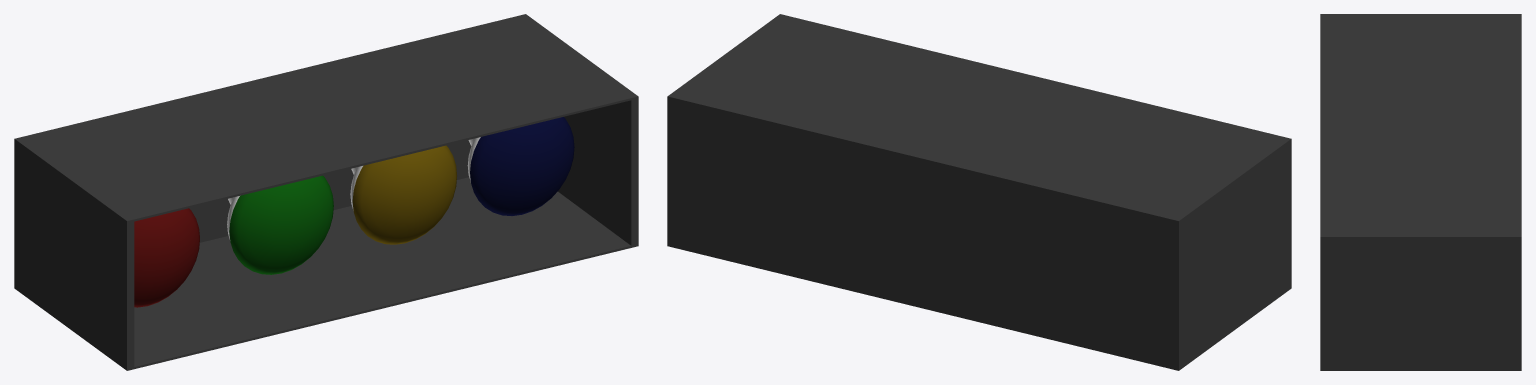
Rendered from lightbox.glb.
3 renders of one model, left to right at view 1: azimuth 30°, elevation 25°; view 2: azimuth 150°, elevation 25°; view 3: azimuth 270°, elevation 25°, orthographic. The views are drawn at different scales.
Visible parts, largest first — view 1: Cube.002, Sphere.001, Sphere.002, Sphere.003, Sphere; view 2: Cube.002; view 3: Cube.002.
Boxes of the visible parts, x1,y1,x2,y2 form: Cube.002: (14,14,638,370); Sphere.001: (227,175,333,274); Sphere.002: (350,145,456,244); Sphere.003: (467,117,574,215); Sphere: (134,208,199,307); Cube.002: (667,14,1291,370); Cube.002: (1320,14,1521,370).
Size of the model in its own units: 1.19 by 0.3328 by 0.4537.
